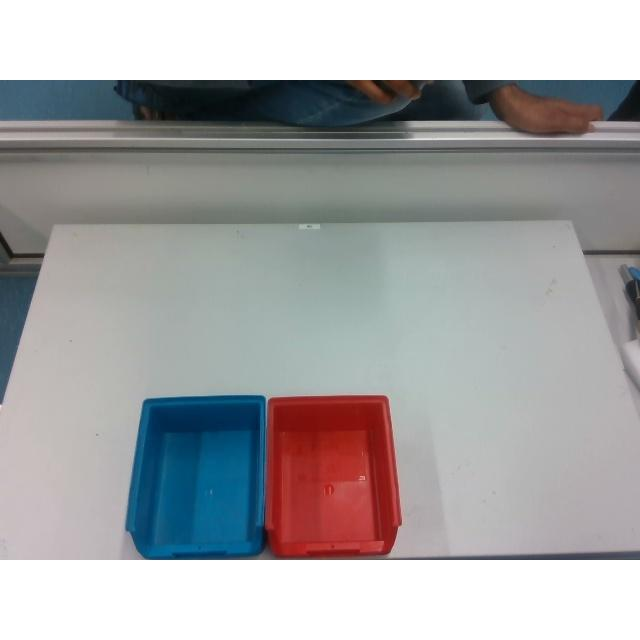container_box_blue: (127, 396, 266, 556)
container_box_red: (267, 395, 401, 555)
